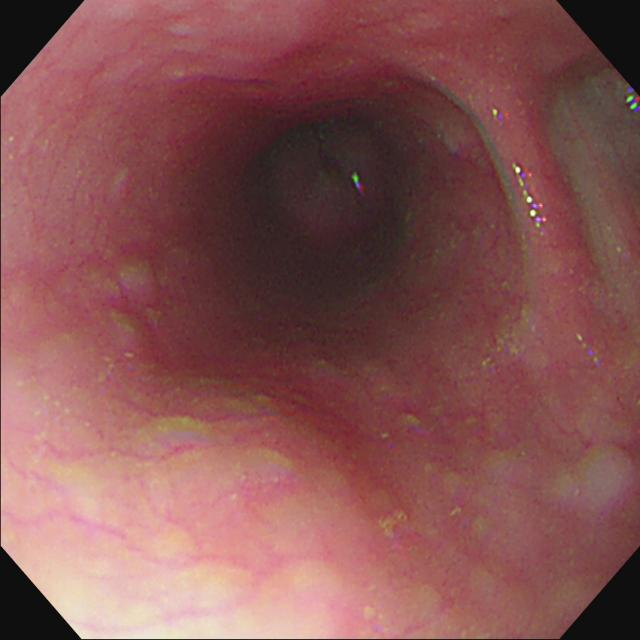I: (271, 112, 394, 250)
U: (514, 160, 549, 242), (624, 88, 640, 124)
